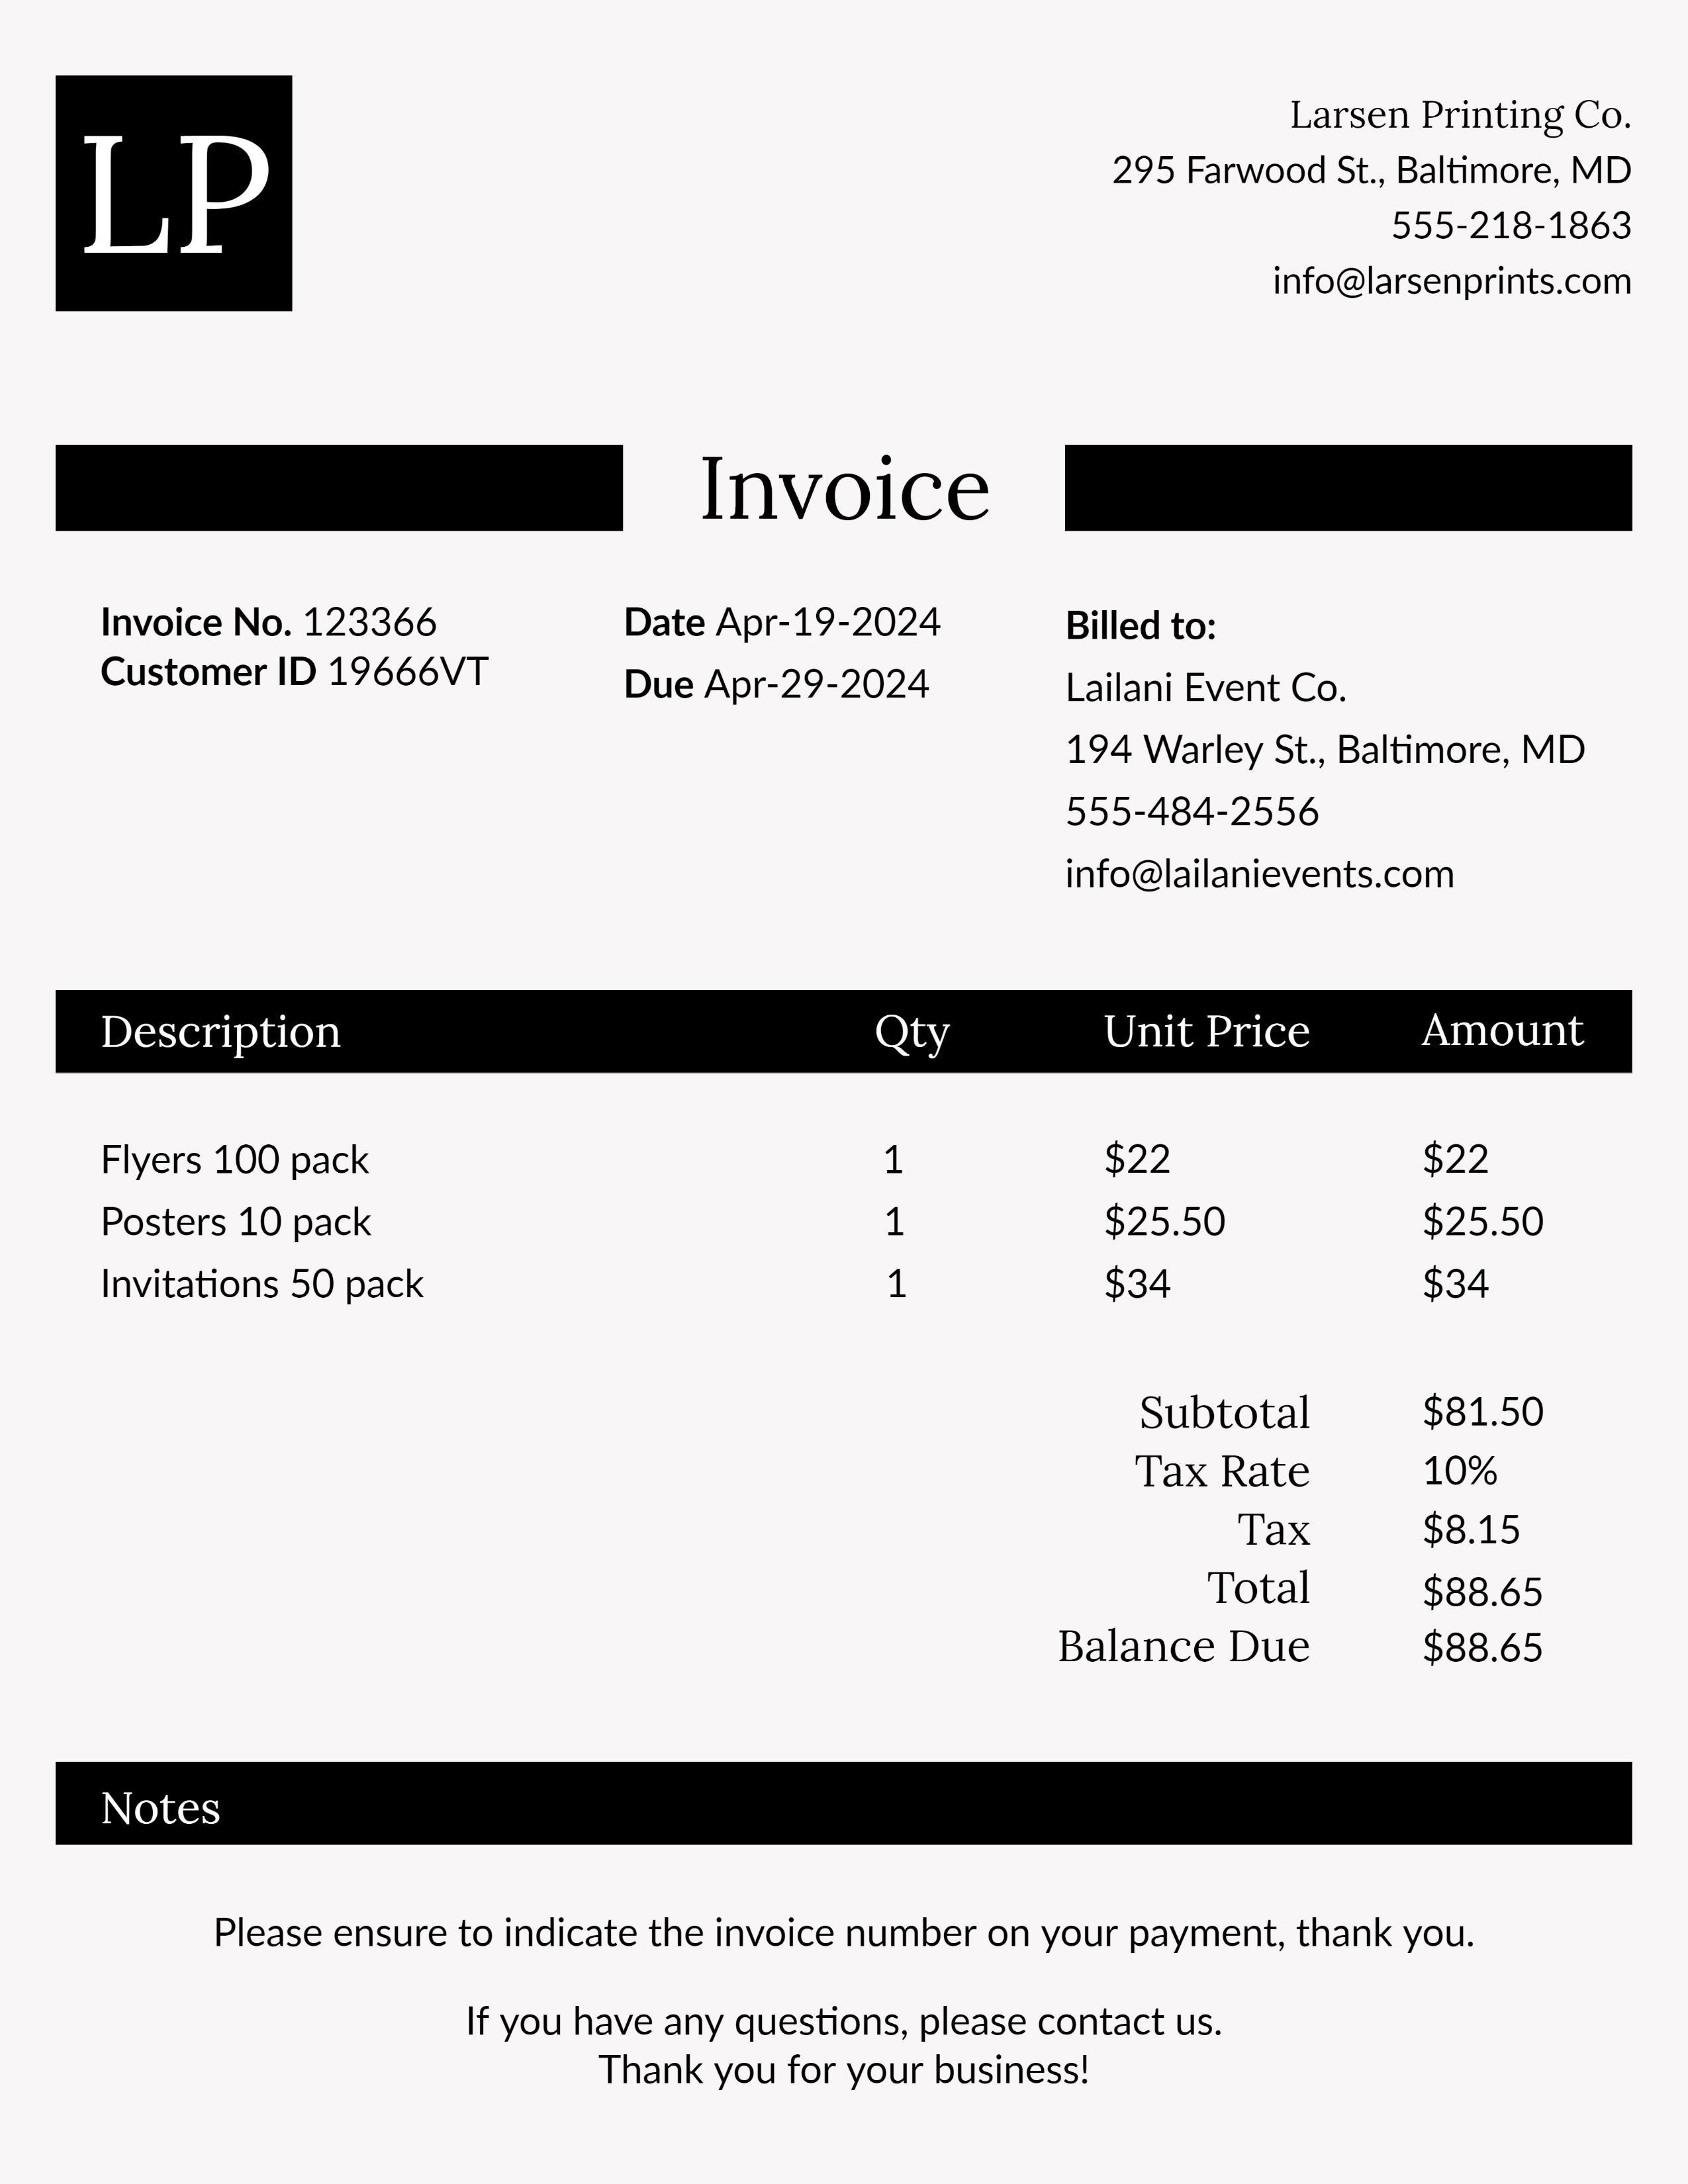ROI: (28, 978, 1648, 1326), (1043, 1375, 1611, 1709), (1048, 596, 1603, 933), (1085, 42, 1662, 338), (194, 1906, 1505, 1981), (80, 586, 501, 653)
